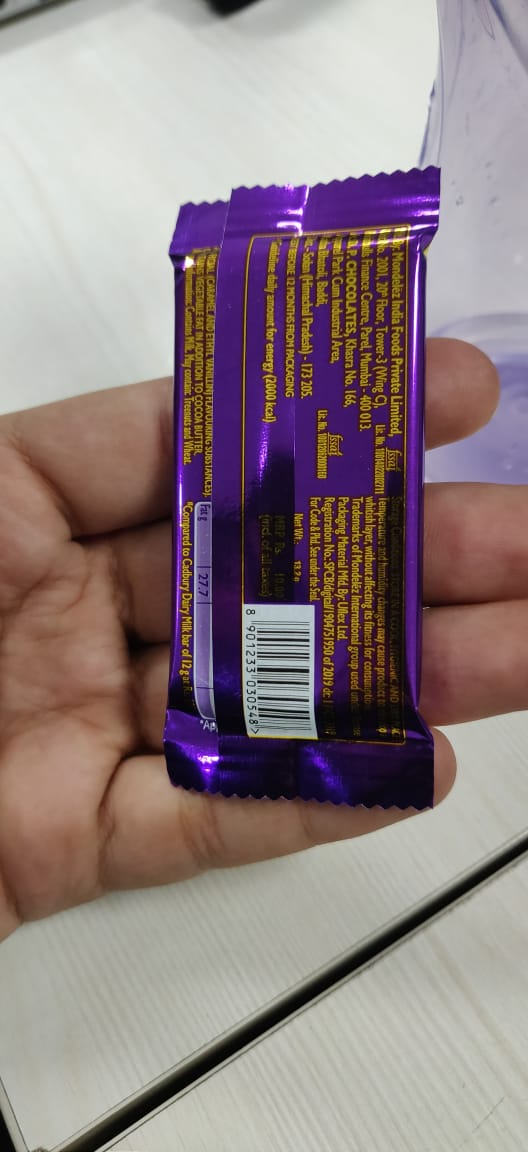dairy milk: (157, 156, 448, 818)
